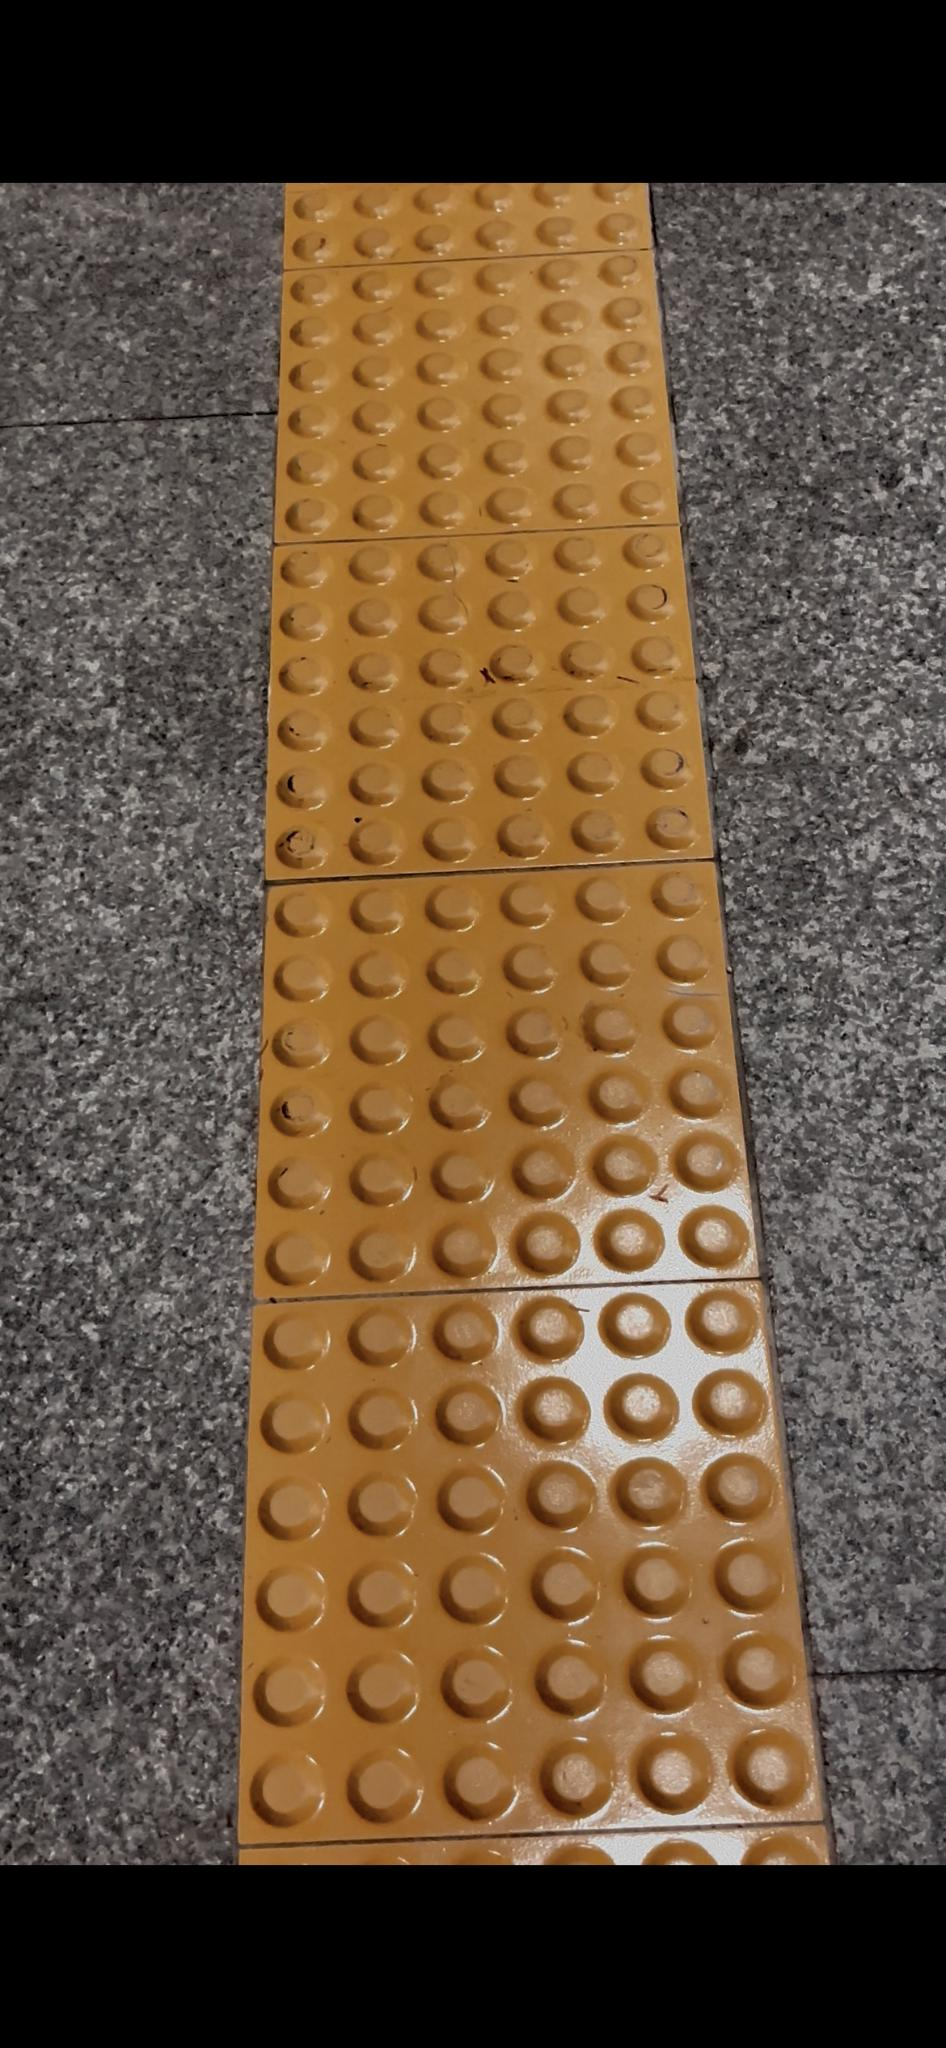Stop block normal: (259, 866, 759, 1296)
